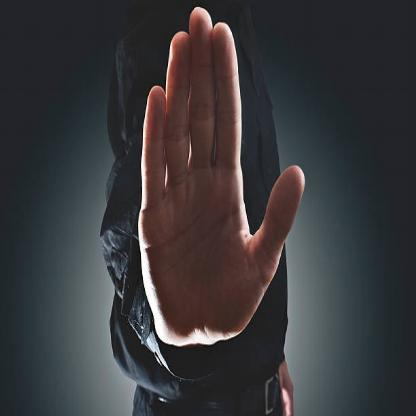stop: (138, 3, 306, 352)
